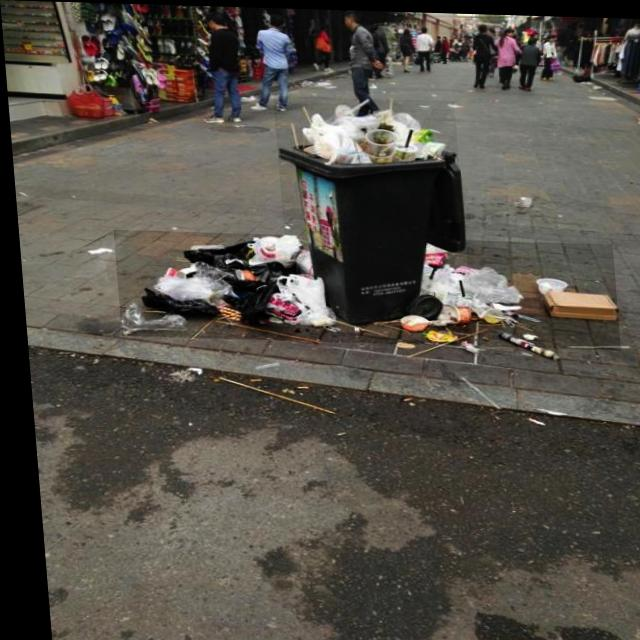garbage: (110, 229, 615, 347)
overflow: (272, 94, 467, 325)
